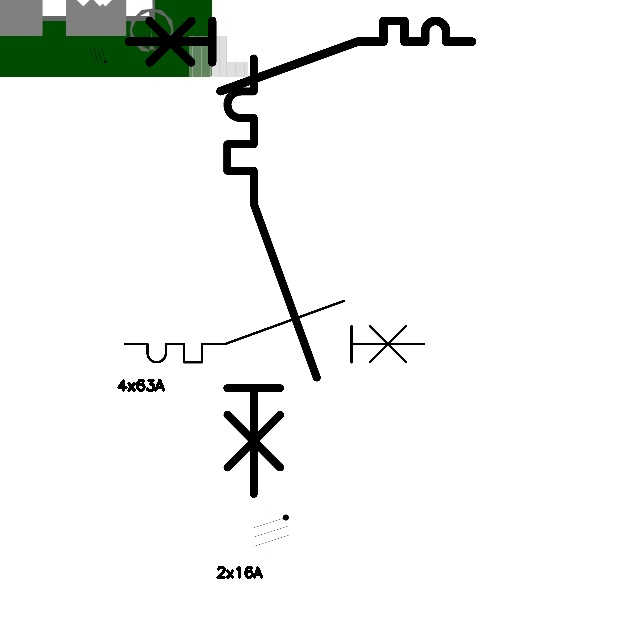interruptor_termomagnetico: (216, 47, 328, 505), (119, 12, 480, 100), (117, 293, 432, 370)
